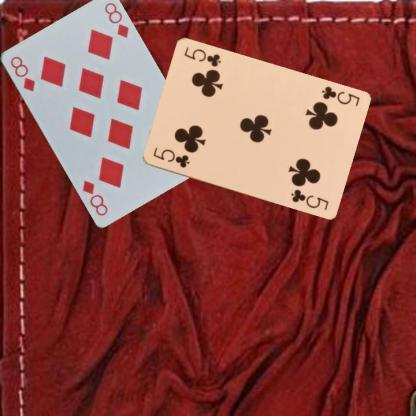5c: (150, 144, 191, 170), (318, 84, 361, 108)
8d: (6, 53, 36, 93)
